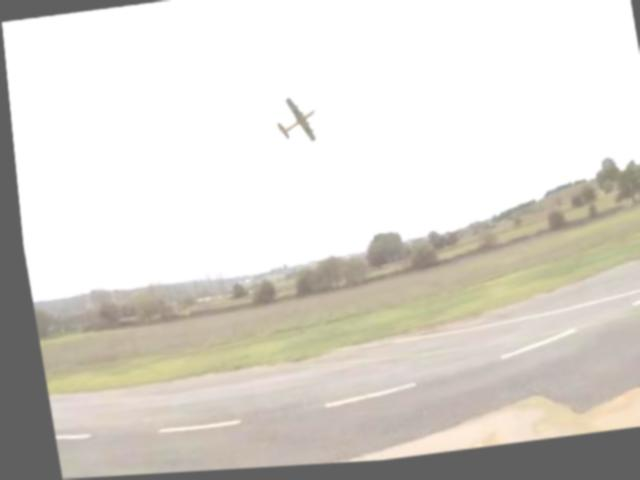uav: (266, 90, 324, 152)
